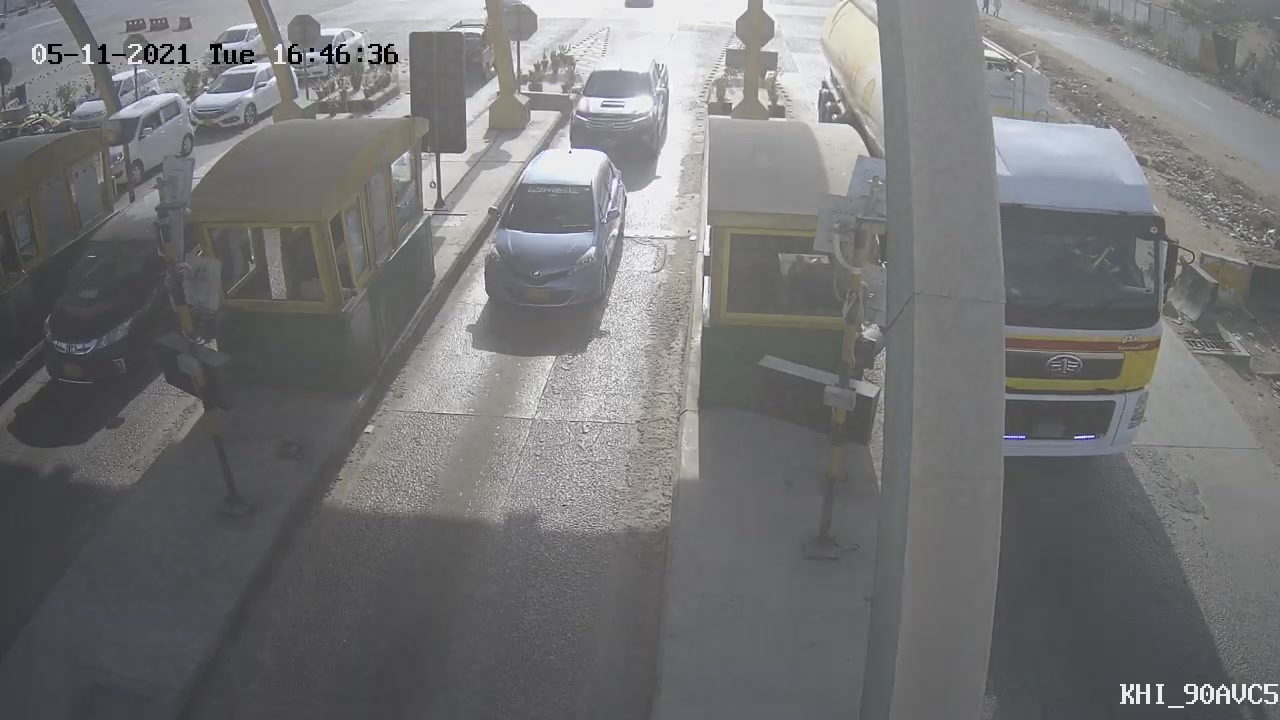F1: (466, 135, 638, 333), (556, 38, 683, 174)
